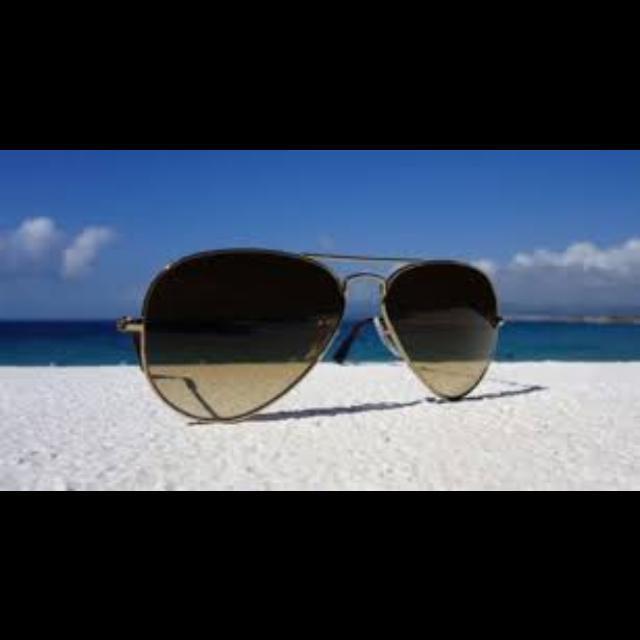sunglasses: (93, 218, 520, 430)
